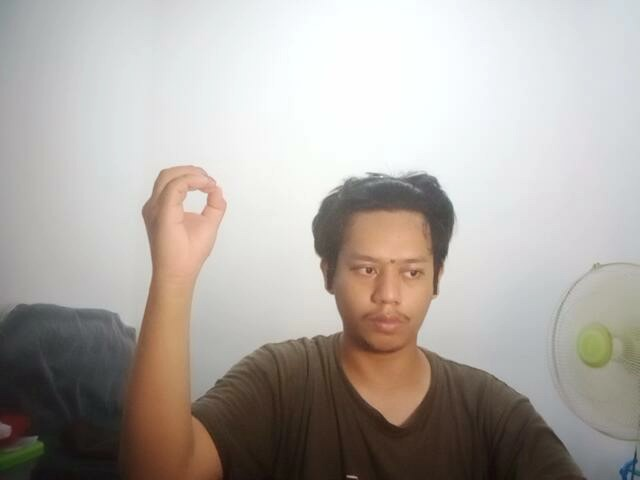O: (132, 157, 250, 280)
